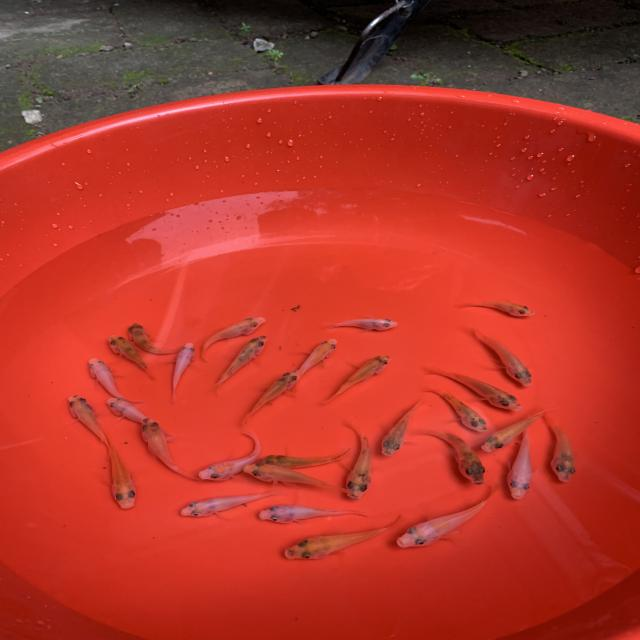nila: (390, 484, 501, 554), (282, 509, 408, 560), (233, 365, 311, 438), (455, 324, 543, 388), (415, 419, 491, 491), (165, 482, 286, 526), (418, 362, 527, 410), (309, 348, 390, 409), (240, 458, 358, 499), (140, 416, 208, 487), (208, 328, 272, 397), (420, 382, 496, 439), (478, 402, 555, 457), (190, 429, 266, 484), (196, 311, 270, 366), (502, 412, 544, 506), (538, 405, 581, 489), (90, 438, 138, 512), (61, 389, 114, 454), (102, 390, 179, 434), (339, 417, 375, 505), (153, 338, 204, 400), (105, 333, 165, 385), (81, 354, 143, 404), (379, 396, 426, 460), (251, 504, 375, 528), (118, 320, 196, 358), (254, 444, 356, 472), (292, 332, 346, 382), (452, 294, 540, 322), (316, 313, 407, 333)
